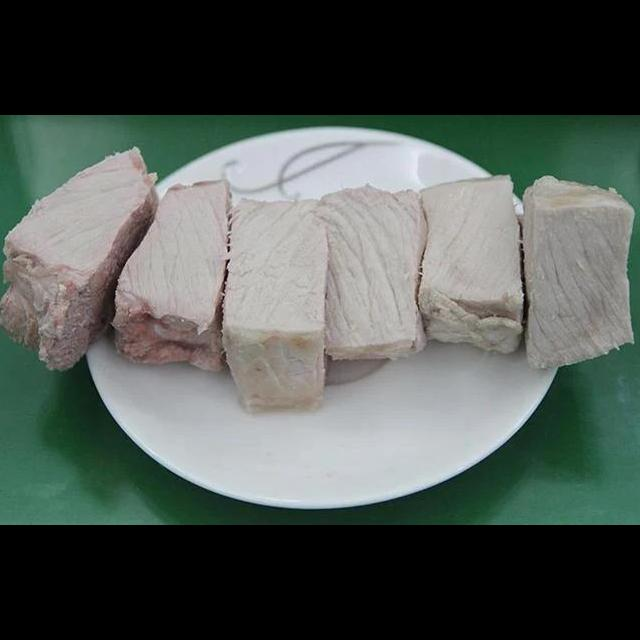thit heo: (0, 141, 164, 377), (218, 190, 341, 417), (105, 173, 239, 374), (514, 168, 639, 373), (414, 168, 532, 361), (317, 179, 435, 367)
